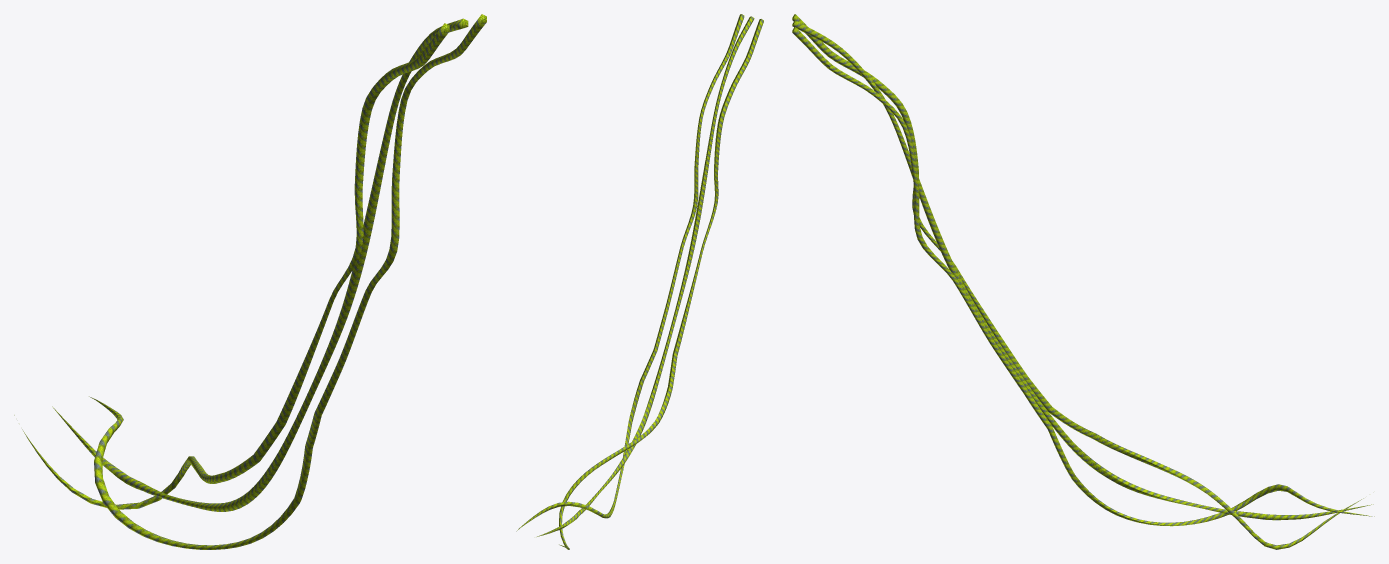
The model's file is Frog Forest 1.fbx.
The picture shows the model from 3 angles, left to right: view 1: azimuth 30°, elevation 25°; view 2: azimuth 150°, elevation 25°; view 3: azimuth 270°, elevation 25°; orthographic projection. The views are drawn at different scales.
Visible parts, largest first — view 1: Frog Forest 1; view 2: Frog Forest 1; view 3: Frog Forest 1.
Boxes of the visible parts, box(x1,y1,x2,y2) form: Frog Forest 1: box(14, 14, 486, 549); Frog Forest 1: box(516, 14, 763, 549); Frog Forest 1: box(792, 14, 1374, 549).
Size of the model in its own units: 13140 by 115622 by 115972.
